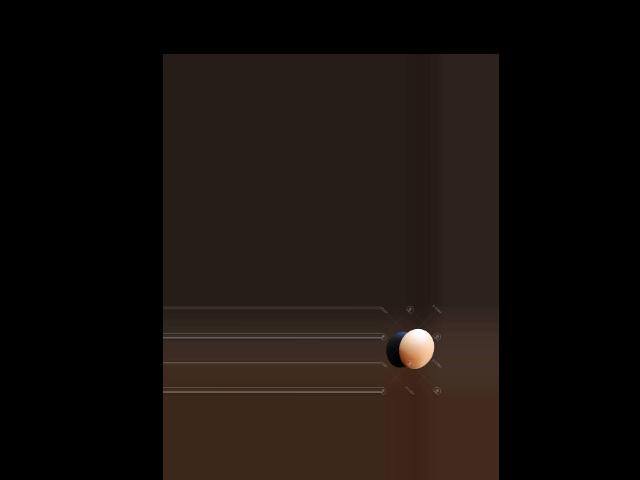egg: (398, 328, 434, 369)
